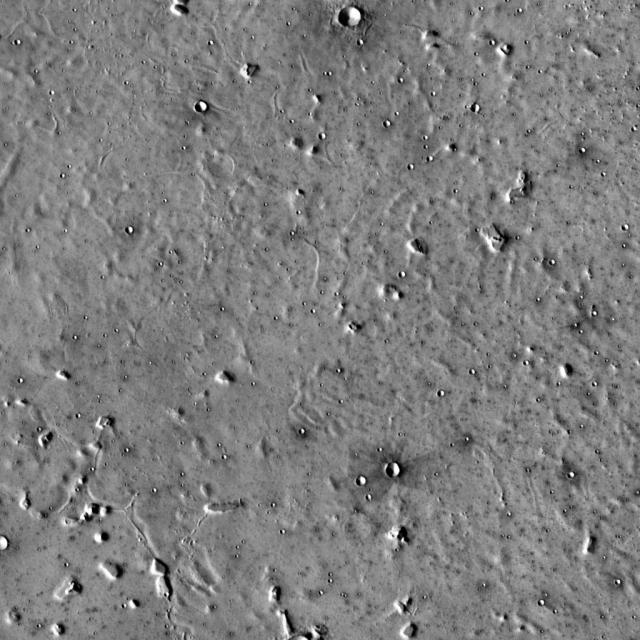crater: (210, 154, 236, 178), (338, 5, 362, 27), (388, 462, 403, 477), (0, 538, 9, 553), (196, 101, 208, 111), (358, 476, 368, 485), (472, 104, 482, 112), (126, 226, 135, 233), (392, 262, 399, 270), (376, 112, 384, 119), (562, 464, 569, 471), (616, 216, 624, 222), (431, 383, 438, 389), (351, 30, 358, 36), (544, 250, 550, 256)
